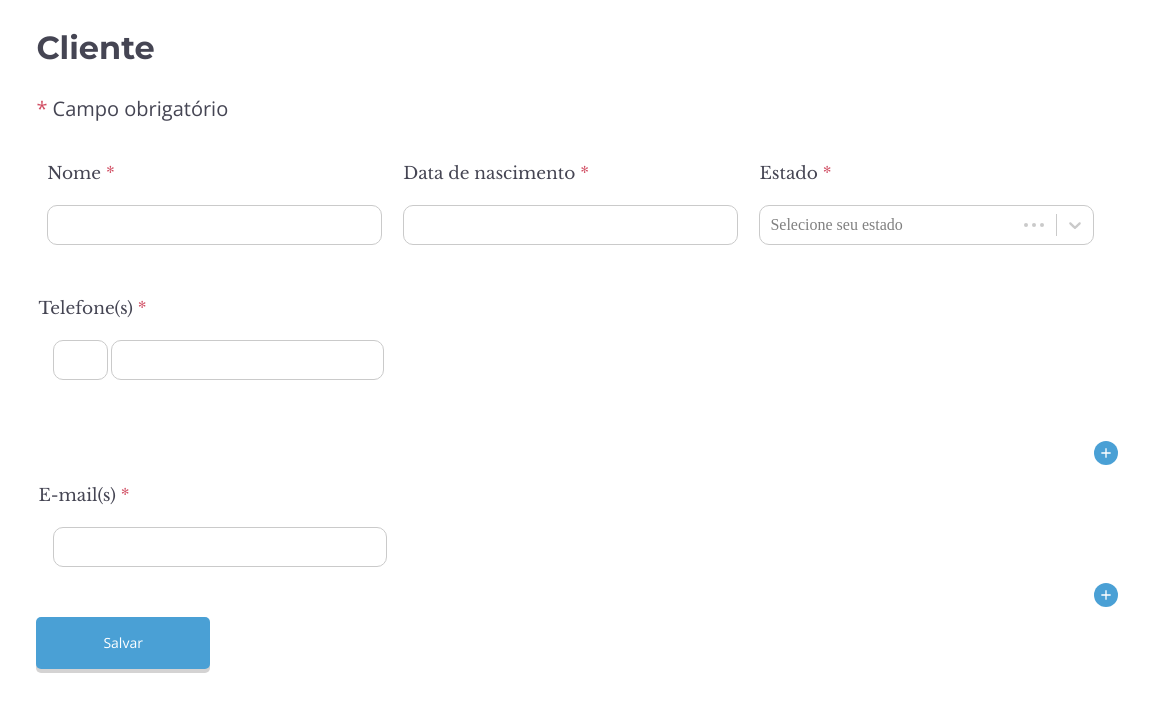
Test case: Testing form › Testing phones area › don't show add button with three fields
This screenshot has width=1152, height=719.
Click the button with id "add_phone" at {"x": 1106, "y": 453}, box [1094,441,1118,465]
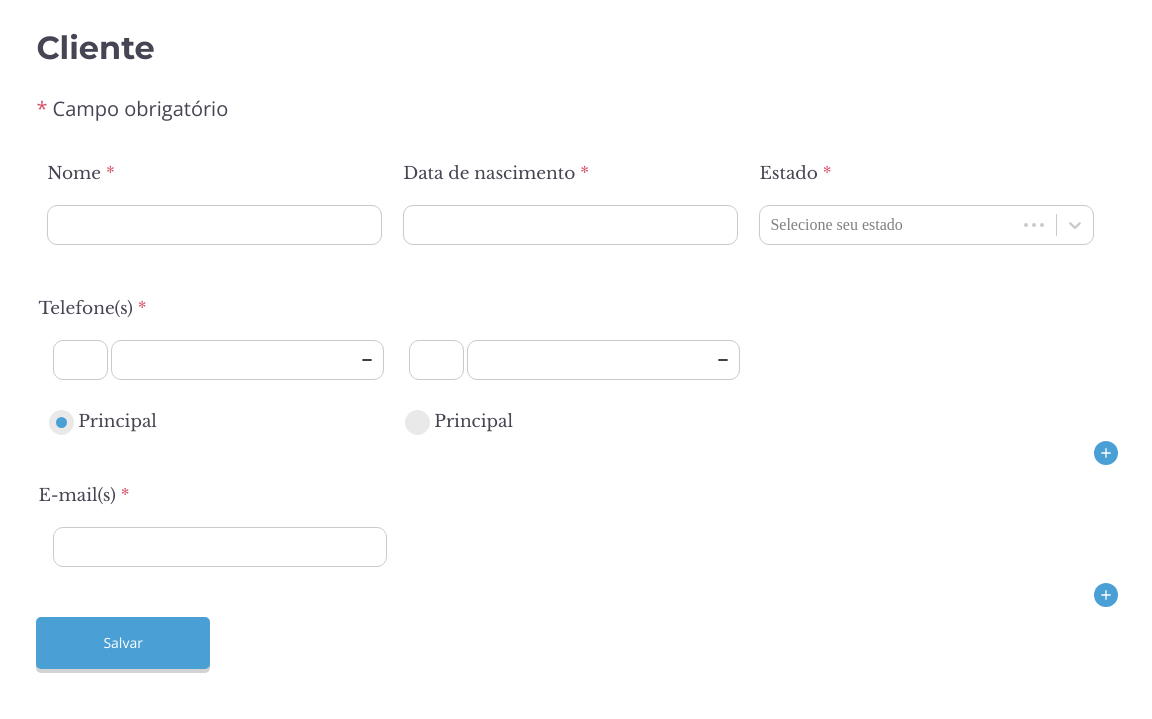
Click the button with id "add_phone" at {"x": 1106, "y": 453}, box [1094,441,1118,465]
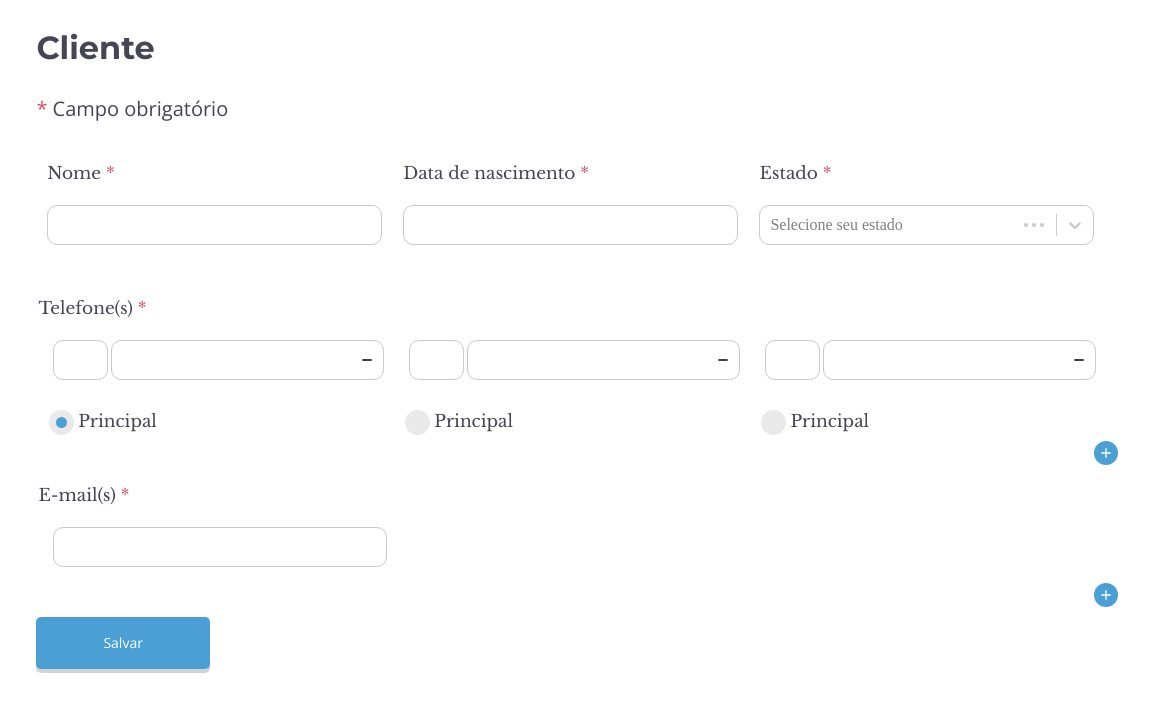
Click the button with id "add_phone" at {"x": 1106, "y": 453}, box [1094,441,1118,465]
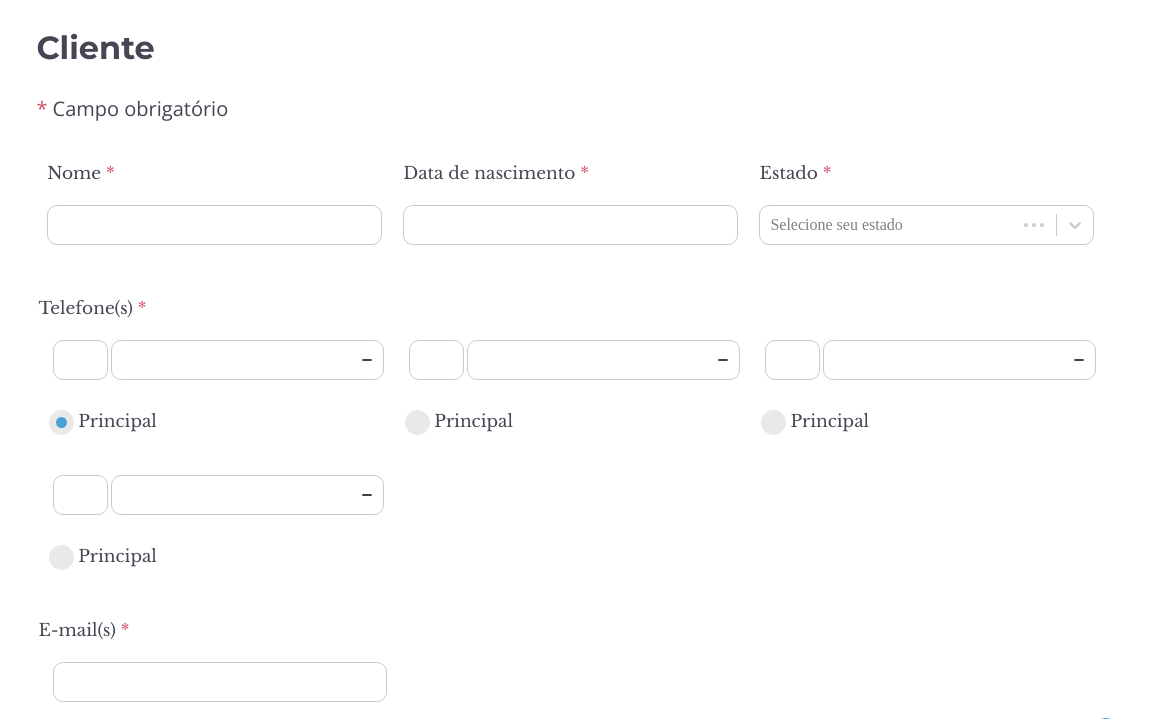
Result: no buttons with id "add_phone" are shown
